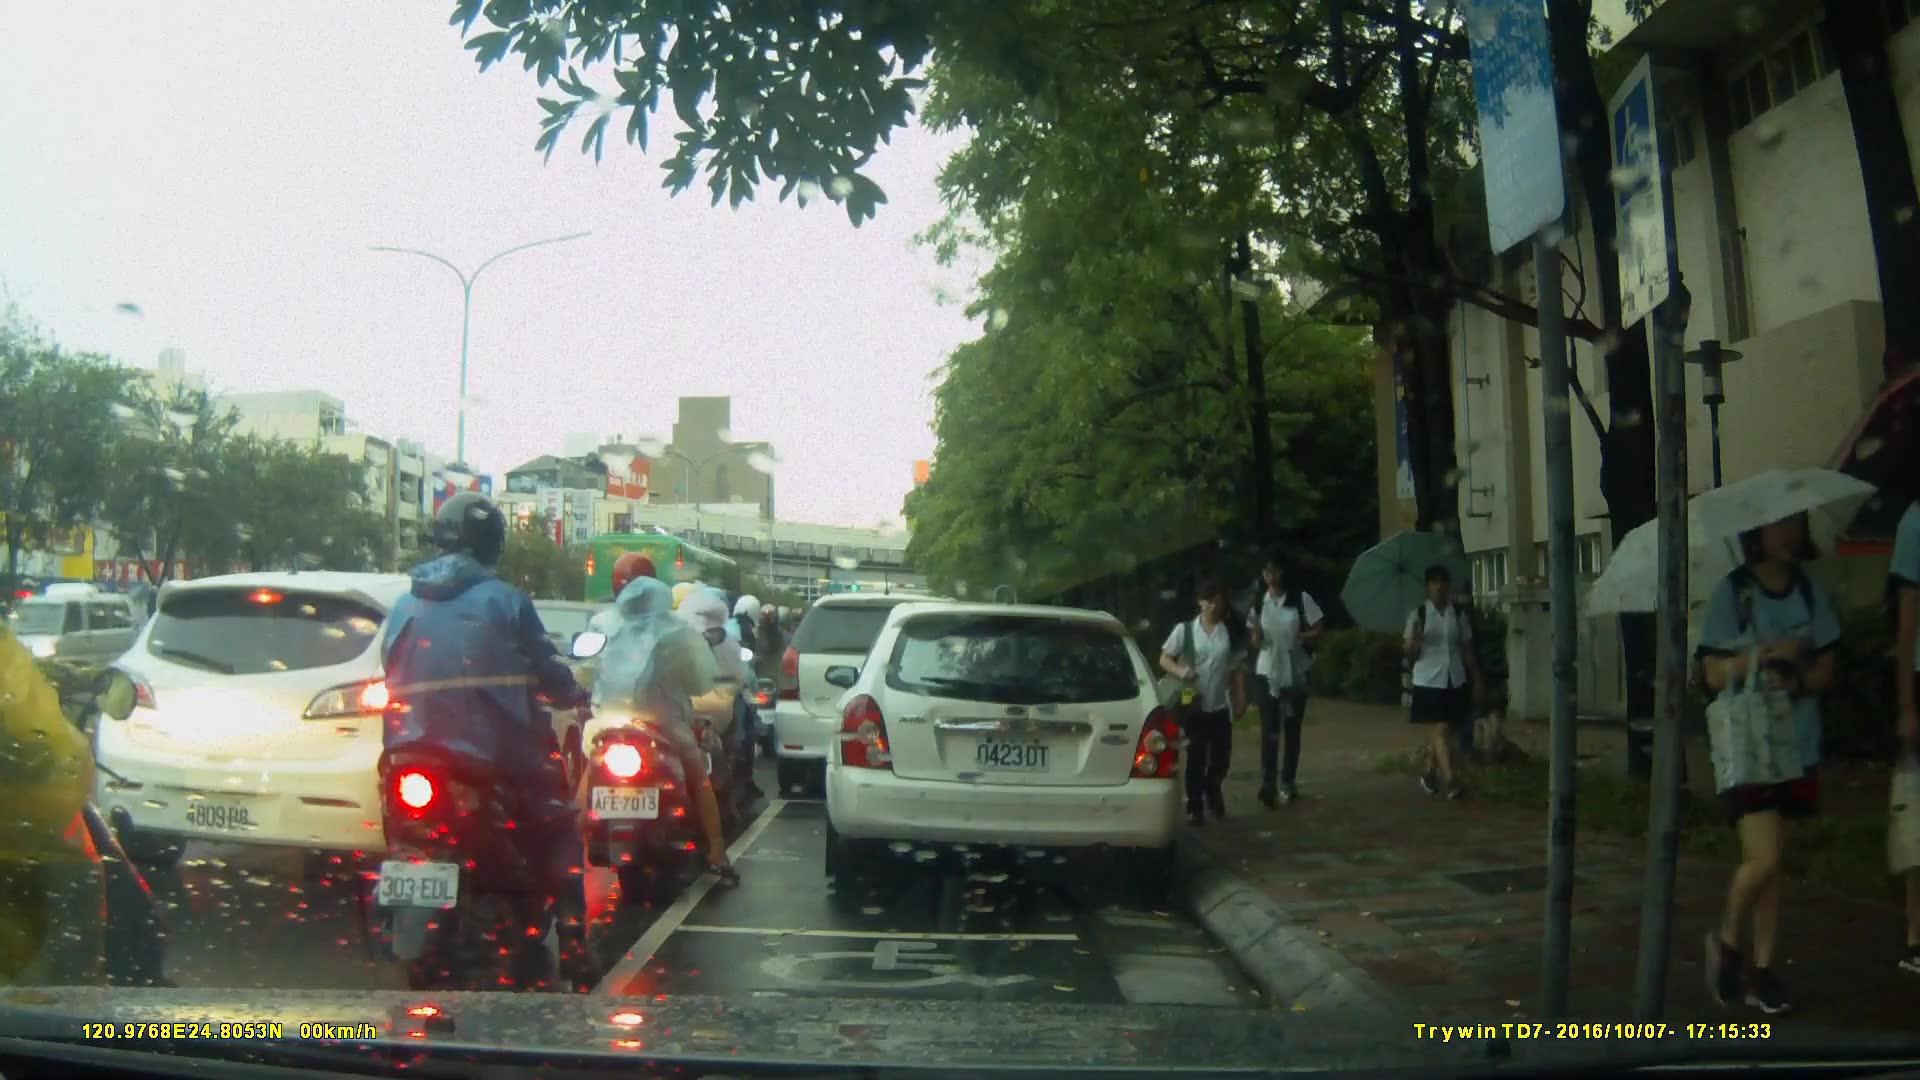pedestrian: (1652, 474, 1793, 1009), (1874, 435, 1920, 992), (1235, 547, 1332, 806), (1385, 554, 1484, 804), (1158, 576, 1254, 816)
rider: (371, 486, 601, 987), (1, 455, 181, 1080), (557, 552, 746, 909), (638, 577, 765, 828), (689, 594, 775, 780)
vehicle: (94, 569, 617, 883), (822, 604, 1187, 883), (774, 595, 995, 802), (590, 532, 760, 647), (21, 593, 140, 704)
